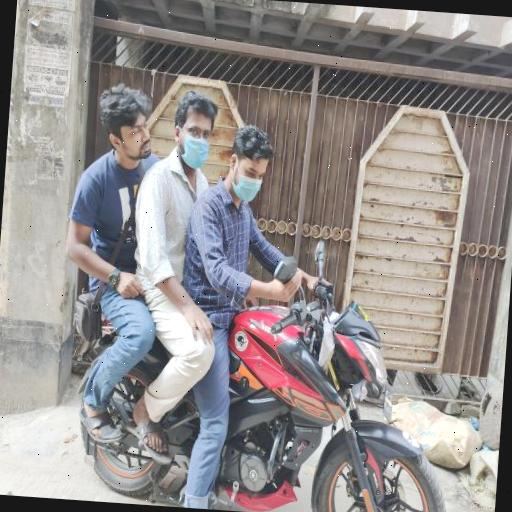no helmet: (204, 97, 289, 256)
triple riding: (42, 59, 476, 512)
